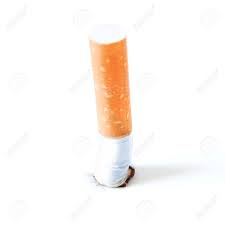cigarette: (83, 22, 140, 192)
